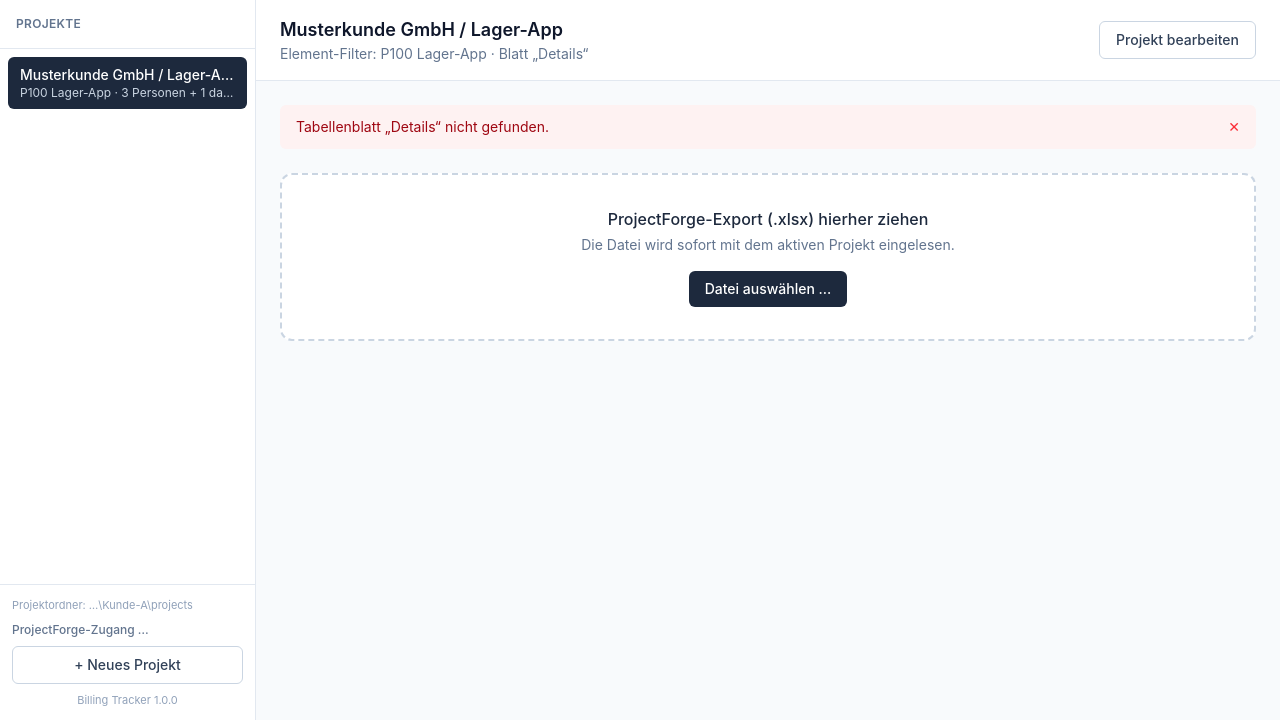
Test case: App (Integration mit nachgebildetem Backend) › zeigt Fehler beim Einlesen und lässt sie schließen
Expected: the heading "Musterkunde GmbH / Lager-App" is shown, [280, 16, 588, 44]
Expected: the message shows "Tabellenblatt „Details“ nicht gefunden.", [296, 118, 549, 135]
Click the button named "Meldung schließen": x=1234, y=127 [1228, 117, 1240, 137]
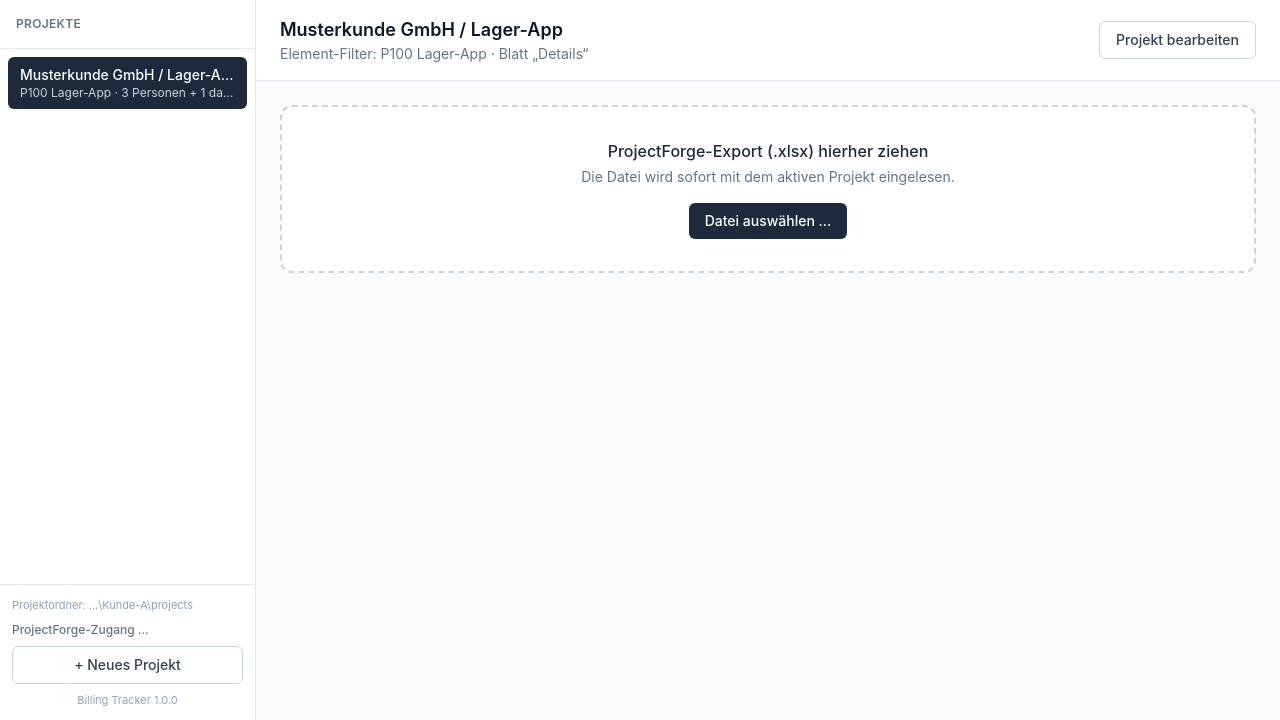
Result: the message "Tabellenblatt „Details“ nicht gefunden. ✕" is gone
